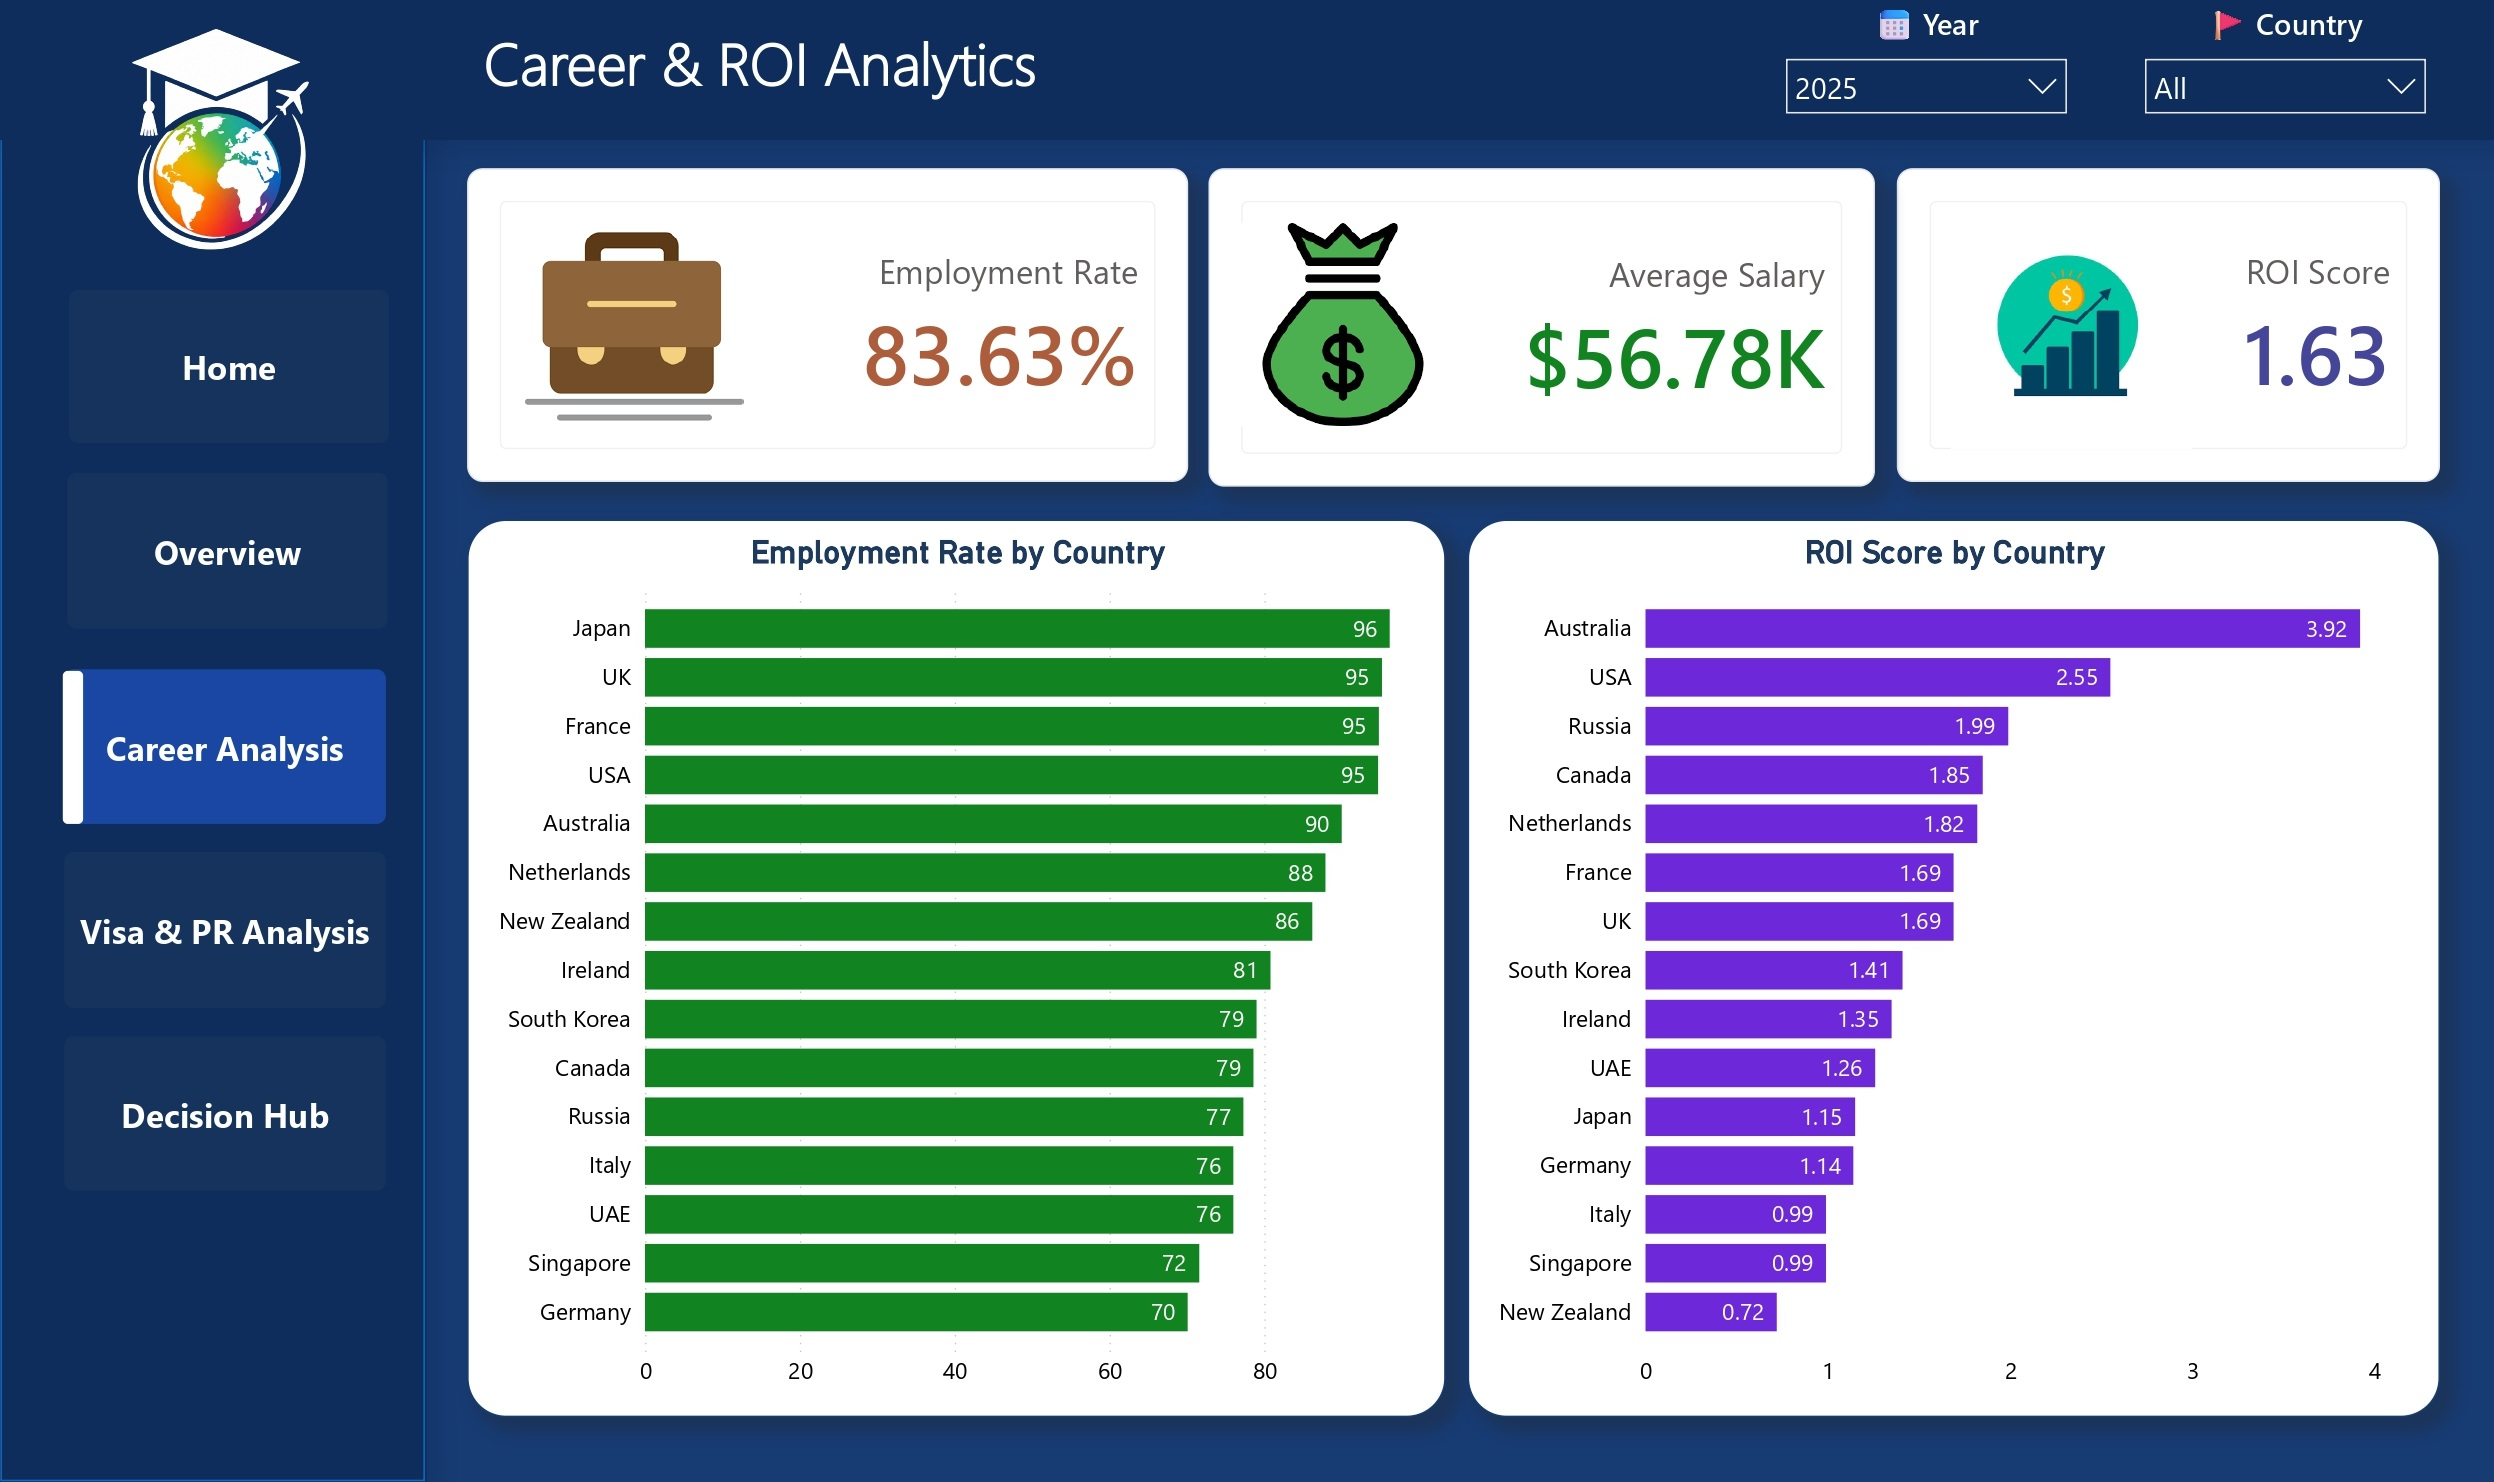

The page's visual inventory and layout, read from the dashboard file:
{"tool":"powerbi","page":{"name":"Career Analysis","canvas":[1600,950],"ordinal":2},"visuals":[{"type":"cardVisual","fields":{"Data":["study_abroad_features_latest.Avg Employment Rate"]},"box":[300.2,108.3,461.7,201.4],"z":0,"group":"g5"},{"type":"actionButton","box":[45,186.4,205,98.3],"z":0,"group":"g6"},{"type":"clusteredBarChart","title":"Employment Rate by Country","fields":{"Y":["Avg(study_abroad_features_latest.Graduate_Employment_Rate)"],"Category":["study_abroad_features_latest.Country_Display"]},"box":[300,333.3,626.7,575],"z":0},{"type":"shape","box":[0,64.6,273.8,885.9],"z":1000,"group":"g4"},{"type":"cardVisual","fields":{"Data":["study_abroad_features_latest.Avg Graduate Salary"]},"box":[775.2,108.3,427.4,204.1],"z":1000,"group":"g3"},{"type":"actionButton","box":[43.4,303.1,205,100],"z":1000,"group":"g6"},{"type":"clusteredBarChart","title":"ROI  Score by Country","fields":{"Category":["study_abroad_features_latest.Country_Display"],"Y":["Avg(study_abroad_features_latest.ROI)"]},"box":[940.5,332.5,623.2,575.7],"z":1000},{"type":"group","id":"g1","title":"Group 3","box":[300.2,108.3,461.7,201.4],"z":2000},{"type":"actionButton","box":[41.7,428.9,205.7,99.8],"z":2000,"group":"g6"},{"type":"shape","box":[0,0,1600,90.1],"z":3000,"group":"g4"},{"type":"group","id":"g2","title":"Group 4","box":[1216,108.3,347.7,201.4],"z":3000},{"type":"cardVisual","fields":{"Data":["study_abroad_features_latest.Avg ROI"]},"box":[1216,108.3,347.7,201.4],"z":3000,"group":"g2"},{"type":"actionButton","box":[41.7,546.4,205.7,99.8],"z":3000,"group":"g6"},{"type":"group","id":"g3","title":"Group 5","box":[775.2,108.3,427.5,203.3],"z":4000},{"type":"actionButton","box":[41.7,663.9,205.7,99.8],"z":4000,"group":"g6"},{"type":"slicer","title":"📅 Country","fields":{"Values":["study_abroad_features_latest.Country"]},"box":[1433.3,3.3,148.3,83.3],"z":5000},{"type":"image","box":[329.2,139.3,156.1,140],"z":5001,"group":"g5"},{"type":"group","id":"g4","title":"Complete Nav","box":[0,0,1600,950.5],"z":6000},{"type":"image","box":[791,143.6,140.2,129.5],"z":6000,"group":"g3"},{"type":"image","box":[1251.4,132.4,153.8,157.7],"z":7000,"group":"g2"},{"type":"shape","box":[41.4,429.5,12.3,98.6],"z":7000},{"type":"group","id":"g5","title":"Group 6","box":[300.2,108.3,461.7,201.4],"z":7003,"group":"g1"},{"type":"slicer","title":"🚩 Country","fields":{"Values":["study_abroad_features_latest.Country"]},"box":[1365,3.3,200,80],"z":11000,"group":"g4"},{"type":"slicer","title":"📅 Year","fields":{"Values":["study_abroad_features_latest.Year"]},"box":[1135,3.3,200,80],"z":12000,"group":"g4"},{"type":"image","box":[26.6,0,224.2,180.5],"z":13000},{"type":"group","id":"g6","title":"Navigation Buttons","box":[41.7,186.4,208.3,577.3],"z":14000,"group":"g4"},{"type":"textbox","title":"Heading","box":[306.1,10.2,578.1,64.6],"z":14500,"group":"g4"}]}

Visuals, with their boxes in screenshot pixels (x1, y1, x2, y2), scaled from the page's 1600x950 canvas onto the 2494x1482 screenshot:
cardVisual - study_abroad_features_latest.Avg Employment Rate: bbox=[468, 169, 1188, 483]
actionButton: bbox=[70, 291, 390, 444]
"Employment Rate by Country" clusteredBarChart: bbox=[468, 520, 1444, 1417]
shape: bbox=[0, 101, 427, 1481]
cardVisual - study_abroad_features_latest.Avg Graduate Salary: bbox=[1208, 169, 1875, 487]
actionButton: bbox=[68, 473, 387, 629]
"ROI  Score by Country" clusteredBarChart: bbox=[1466, 519, 2437, 1417]
"Group 3" group: bbox=[468, 169, 1188, 483]
actionButton: bbox=[65, 669, 386, 825]
shape: bbox=[0, 0, 2493, 141]
"Group 4" group: bbox=[1895, 169, 2437, 483]
cardVisual - study_abroad_features_latest.Avg ROI: bbox=[1895, 169, 2437, 483]
actionButton: bbox=[65, 852, 386, 1008]
"Group 5" group: bbox=[1208, 169, 1875, 486]
actionButton: bbox=[65, 1036, 386, 1191]
"📅 Country" slicer: bbox=[2234, 5, 2465, 135]
image: bbox=[513, 217, 756, 436]
"Complete Nav" group: bbox=[0, 0, 2493, 1481]
image: bbox=[1233, 224, 1452, 426]
image: bbox=[1951, 207, 2190, 453]
shape: bbox=[65, 670, 84, 824]
"Group 6" group: bbox=[468, 169, 1188, 483]
"🚩 Country" slicer: bbox=[2128, 5, 2439, 130]
"📅 Year" slicer: bbox=[1769, 5, 2081, 130]
image: bbox=[41, 0, 391, 282]
"Navigation Buttons" group: bbox=[65, 291, 390, 1191]
"Heading" textbox: bbox=[477, 16, 1378, 117]
